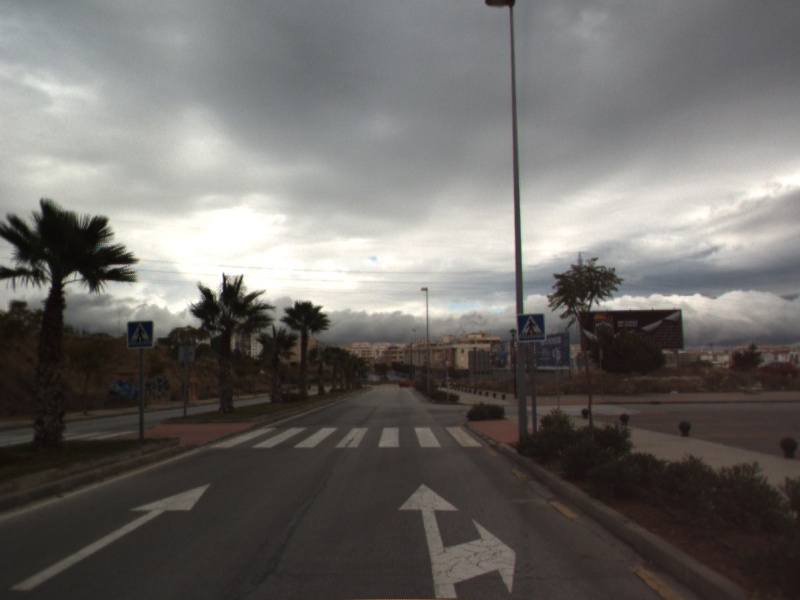STRAIGHT: (8, 481, 213, 593)
STRAIGHT_RIGHT: (396, 481, 518, 600)
